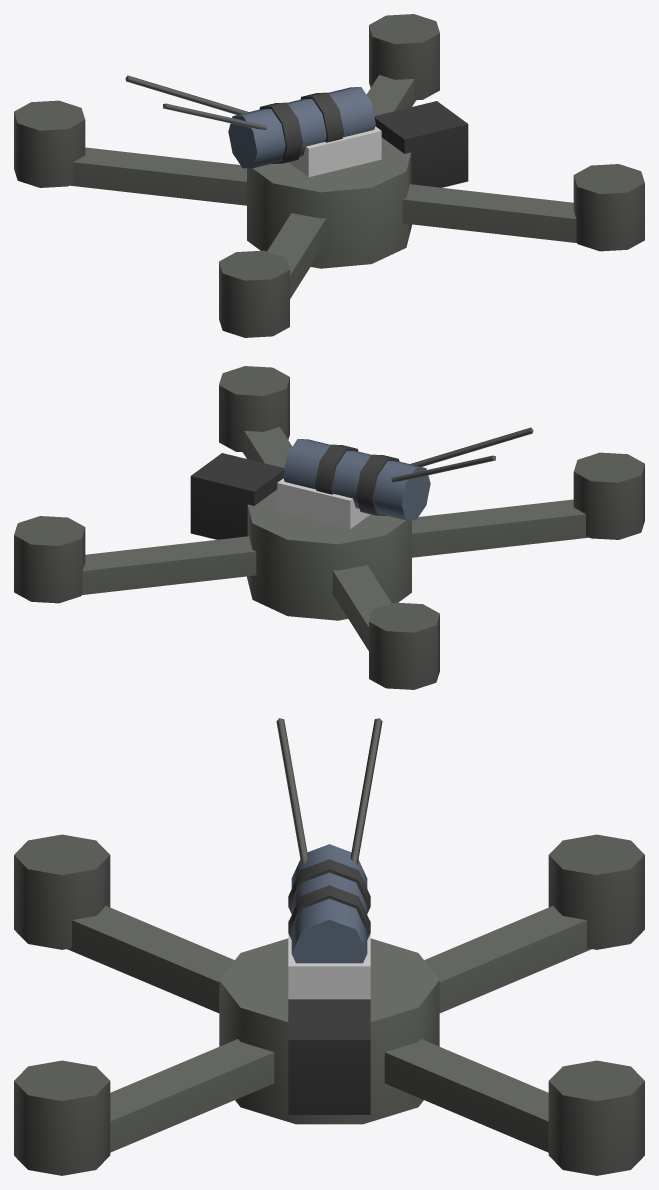
Rendered from m_drone_45491fba.glb.
The picture shows the model from 3 angles, top to bottom: view 1: azimuth 30°, elevation 25°; view 2: azimuth 150°, elevation 25°; view 3: azimuth 270°, elevation 25°; orthographic projection. The views are drawn at different scales.
Visible parts, largest first — view 1: mesh; view 2: mesh; view 3: mesh.
Part boxes in pixels (<box>): mesh: <box>14,14,644,337</box>; mesh: <box>14,366,644,689</box>; mesh: <box>14,718,644,1175</box>.
Bounding box in the file's own units: 9.18 × 3.94 × 9.18.
